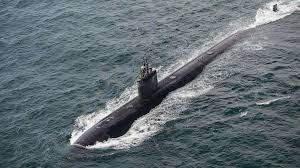Submarine: (74, 26, 256, 149)
